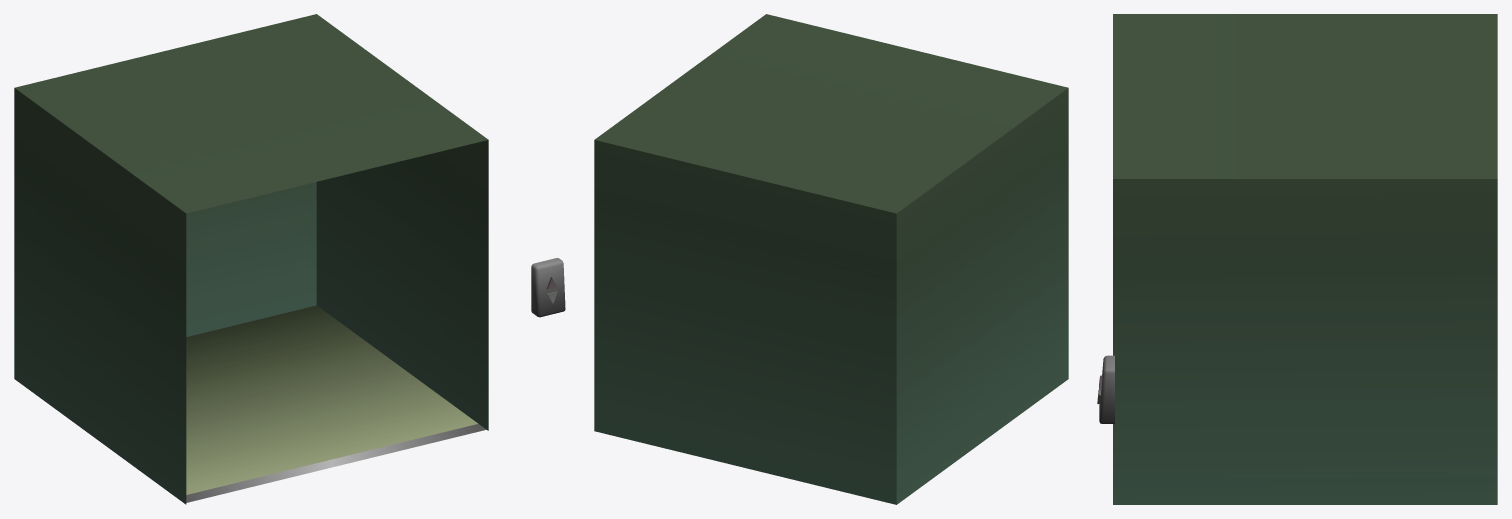
File: elevator_walls.fbx
3 renders of one model, left to right at view 1: azimuth 30°, elevation 25°; view 2: azimuth 150°, elevation 25°; view 3: azimuth 270°, elevation 25°, orthographic. The views are drawn at different scales.
Visible parts, largest first — view 1: elevator_walls, elevator_floor, elevator_button; view 2: elevator_walls; view 3: elevator_walls, elevator_button.
Part boxes in pixels (x1,y1,x2,y2): elevator_walls: (14,14,488,504); elevator_floor: (186,305,486,502); elevator_button: (531,258,565,317); elevator_walls: (594,14,1068,504); elevator_walls: (1113,14,1497,504); elevator_button: (1097,355,1114,423).
Size of the model in its own units: 291 by 216 by 241.
